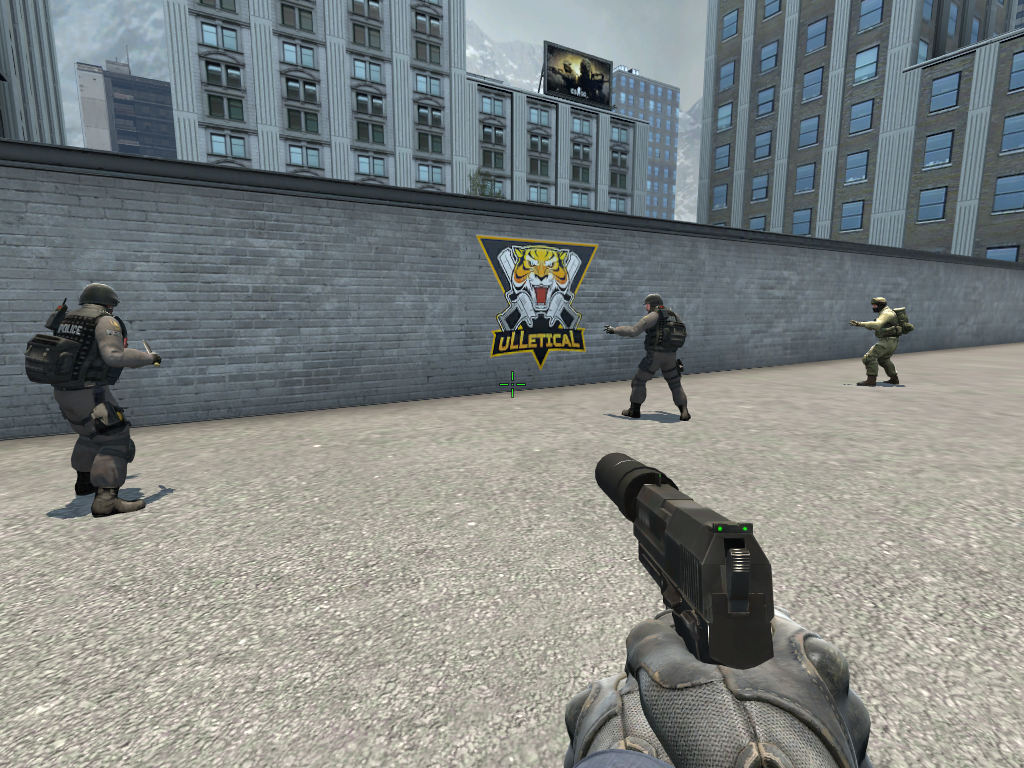ct head: (77, 280, 121, 316), (641, 292, 666, 314), (869, 294, 889, 314)
